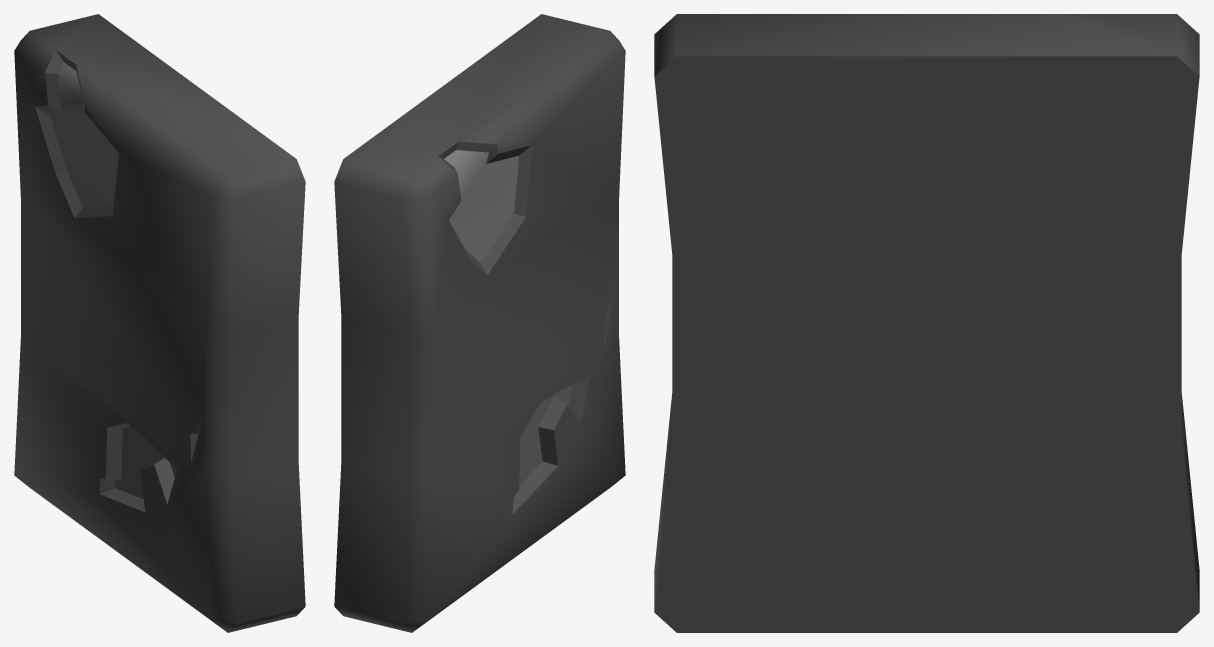
Rendered from Table_2_4.obj.
The picture shows the model from 3 angles, left to right: view 1: azimuth 30°, elevation 25°; view 2: azimuth 150°, elevation 25°; view 3: azimuth 270°, elevation 25°; orthographic projection. The views are drawn at different scales.
Parts seen in each view (by area): view 1: Table_2_4; view 2: Table_2_4; view 3: Table_2_4.
Part boxes in pixels (x1=…): Table_2_4: x1=14, y1=14, x2=305, y2=632; Table_2_4: x1=334, y1=14, x2=625, y2=632; Table_2_4: x1=654, y1=14, x2=1199, y2=632.
Size of the model in its own units: 0.0894 by 0.4635 by 0.3972.
